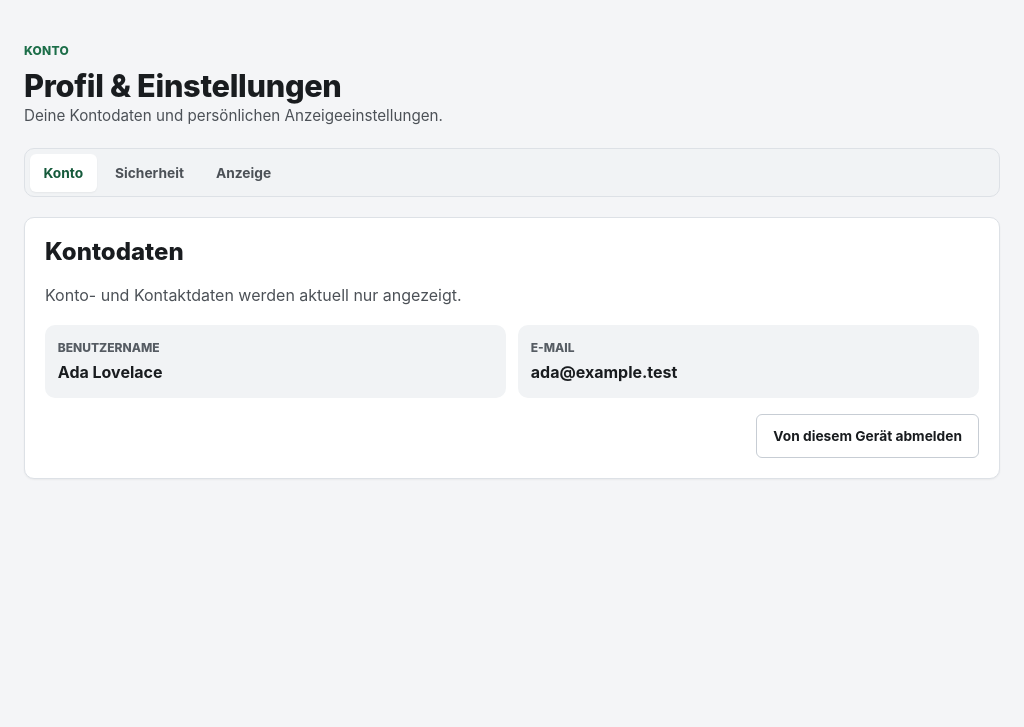
it: ProfileView › Stage 3D: a 429 on password change shows the rate-limit message, a Retry-After countdown, and disables the submit button
This screenshot has width=1024, height=727.
Click the tab "Sicherheit" at (150, 173), box [102,154,198,192]
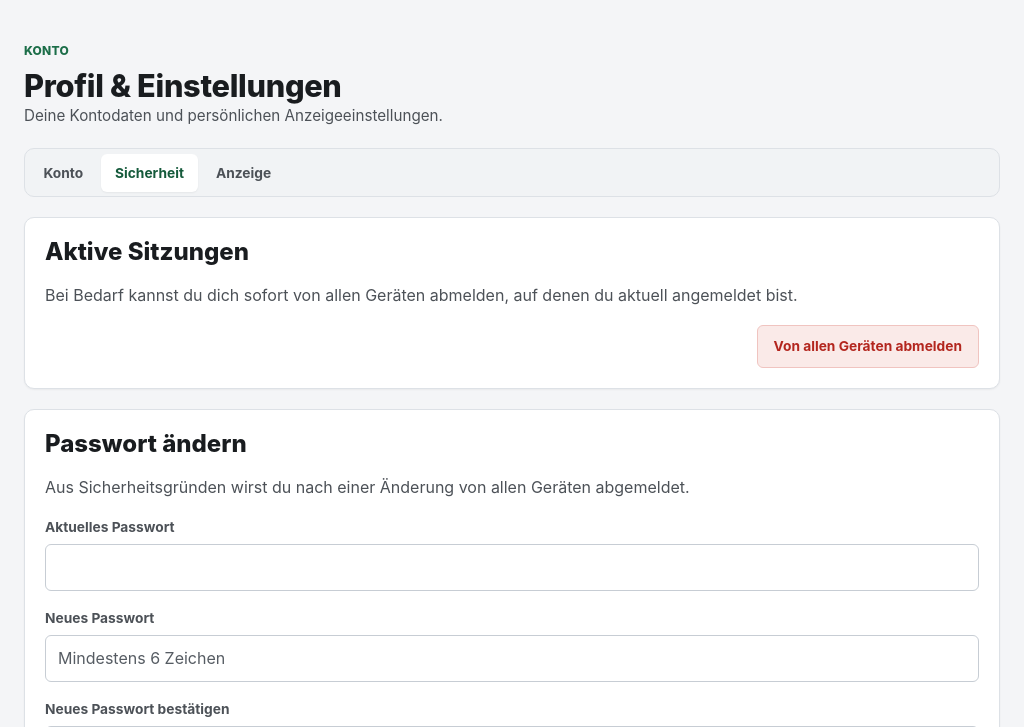
Type "current-password-123" into the password field with id "current-password" at (512, 568), box [45,544,979,591]
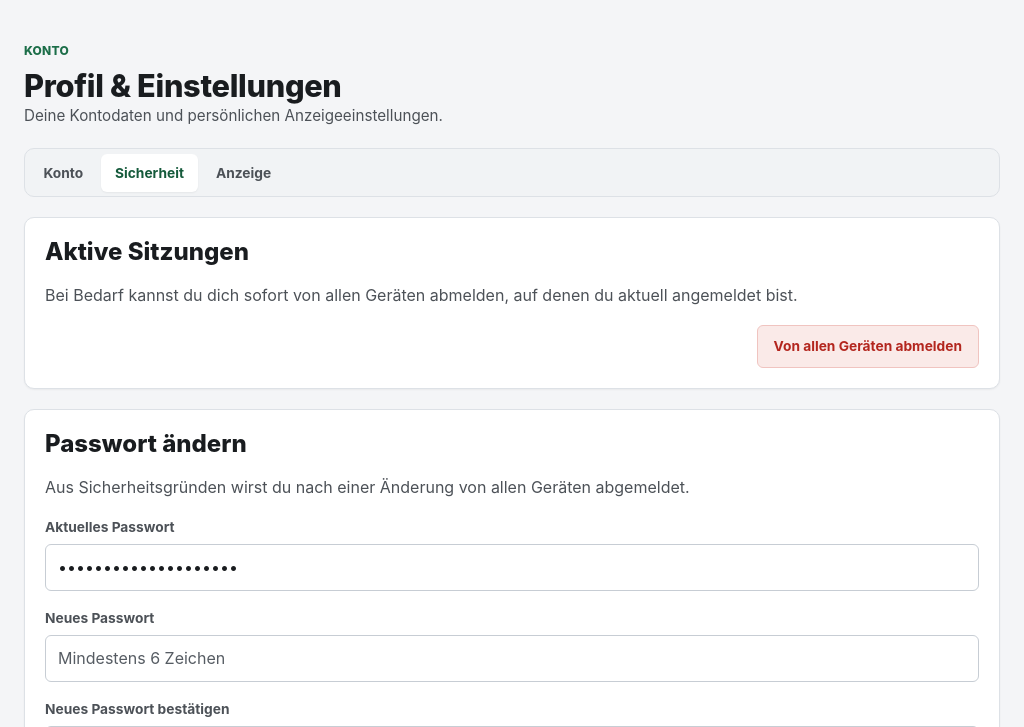
Type "a-brand-new-password-123" into the password field with id "new-password" at (512, 659), box [45,635,979,682]
(page scrolled)
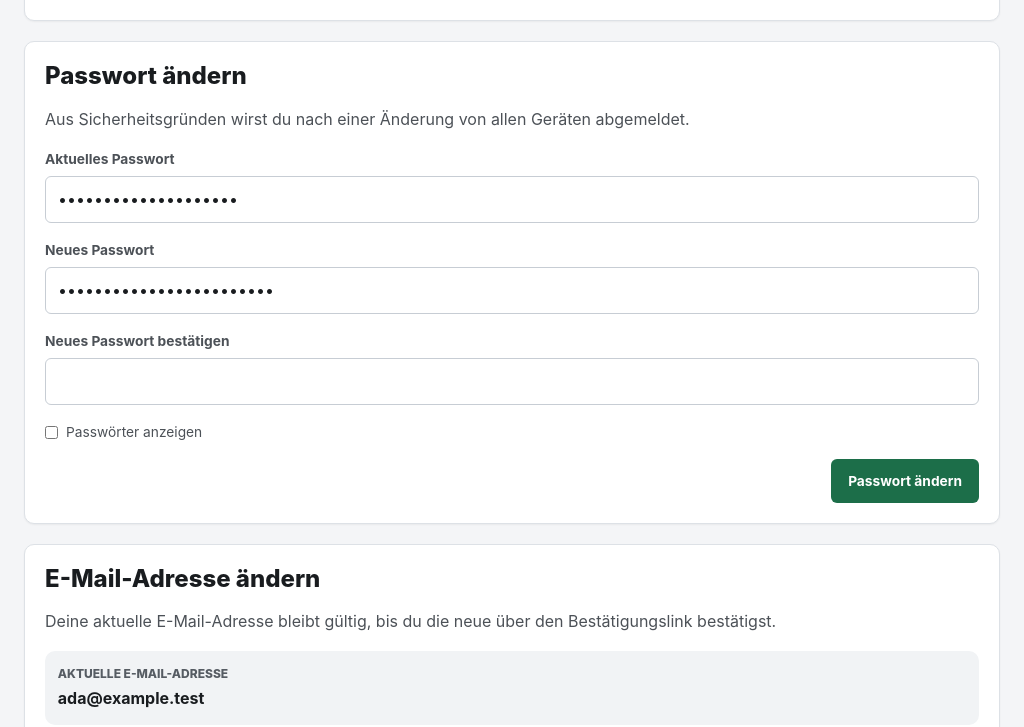
Type "a-brand-new-password-123" into the password field with id "new-password-confirmation" at (512, 382), box [45,358,979,405]
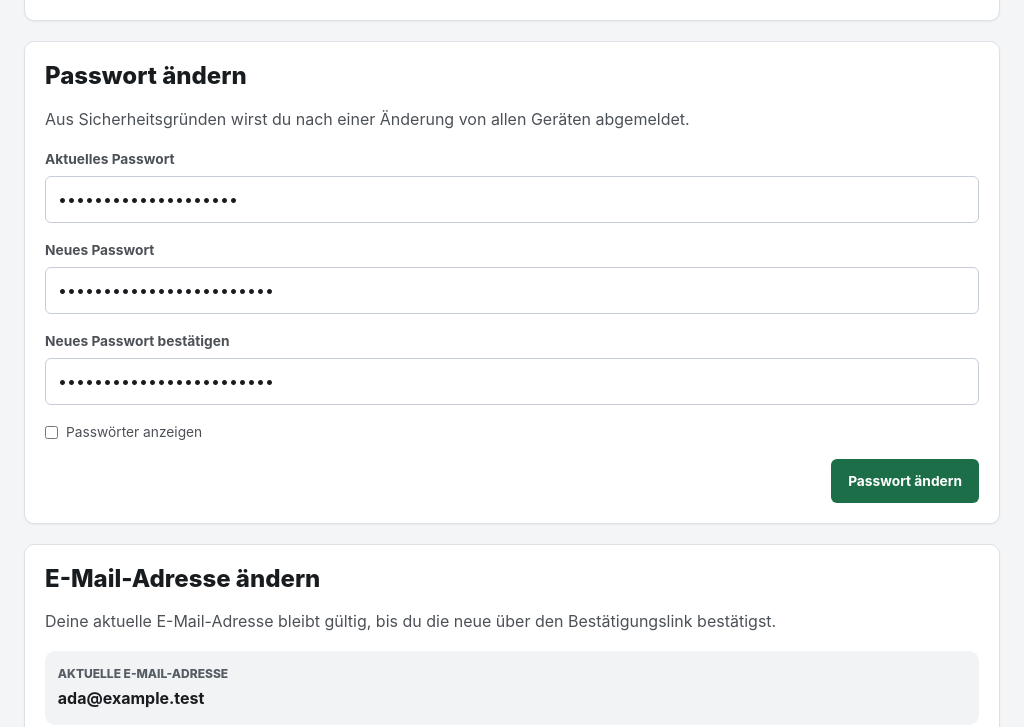
Submit the form that starts with "Passwort ändern"
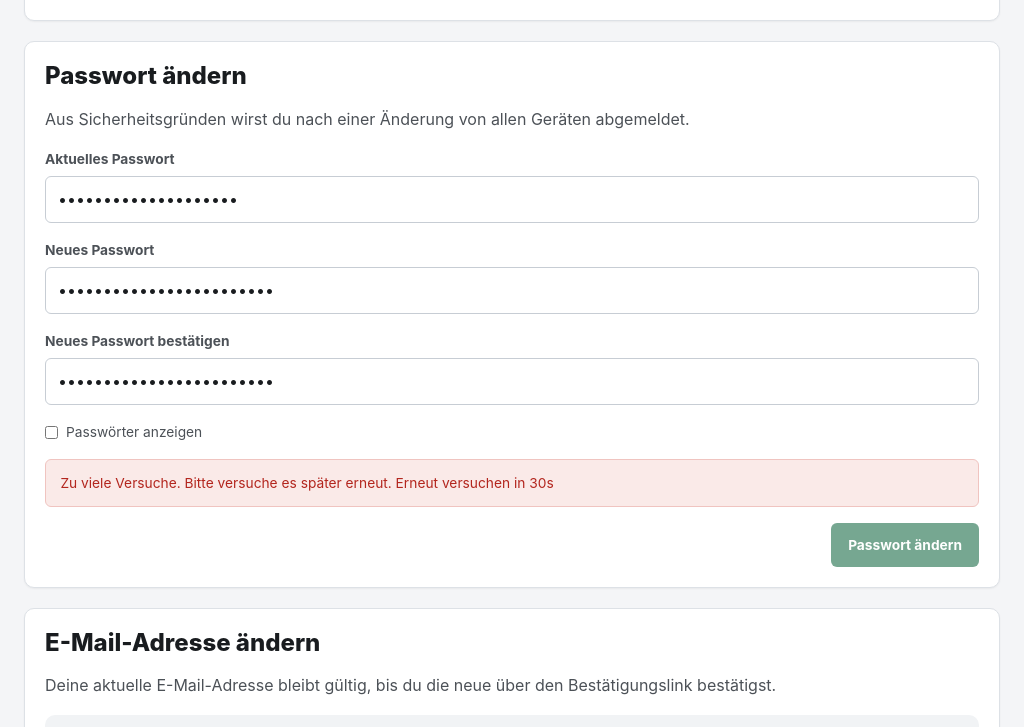
Expected: the message "Zu viele Versuche. Bitte versuche es später erneut. Erneut versuchen in 30s" is shown, [45,460,979,508]
Expected: the submit button is disabled, [831,524,979,567]
